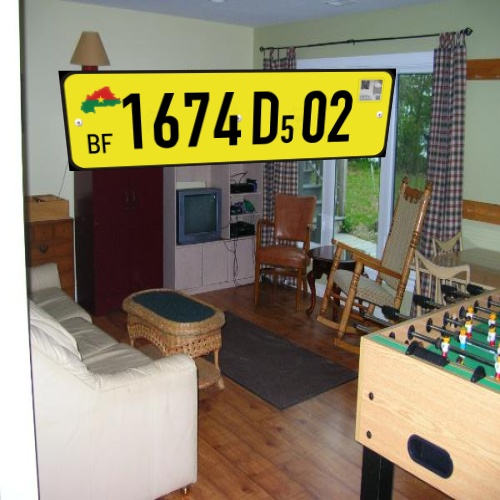plate: (51, 51, 412, 190)
